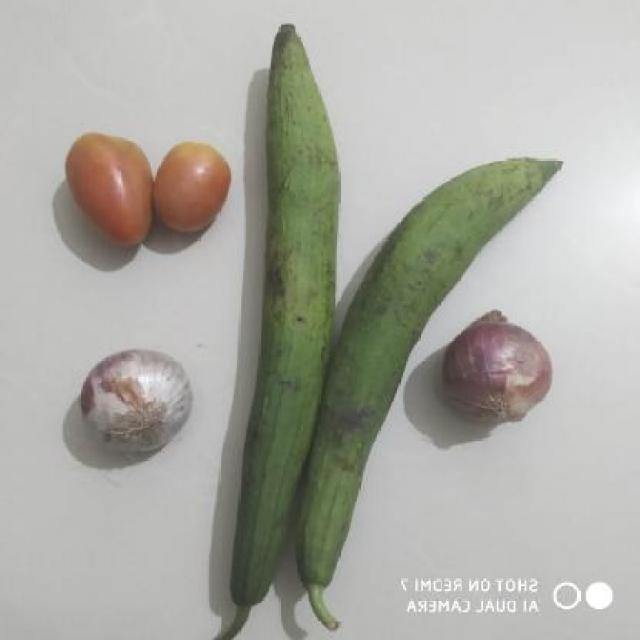Onion: (55, 337, 200, 474), (432, 306, 586, 432)
Tomato: (64, 132, 150, 252), (149, 136, 234, 242)
